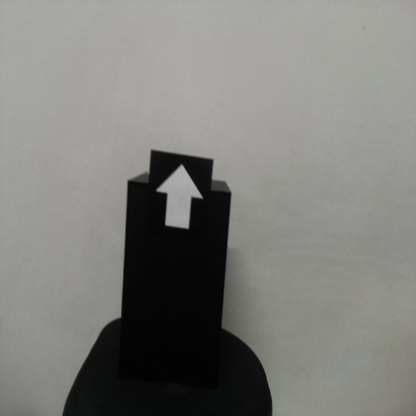id_1: (149, 157, 213, 244)
